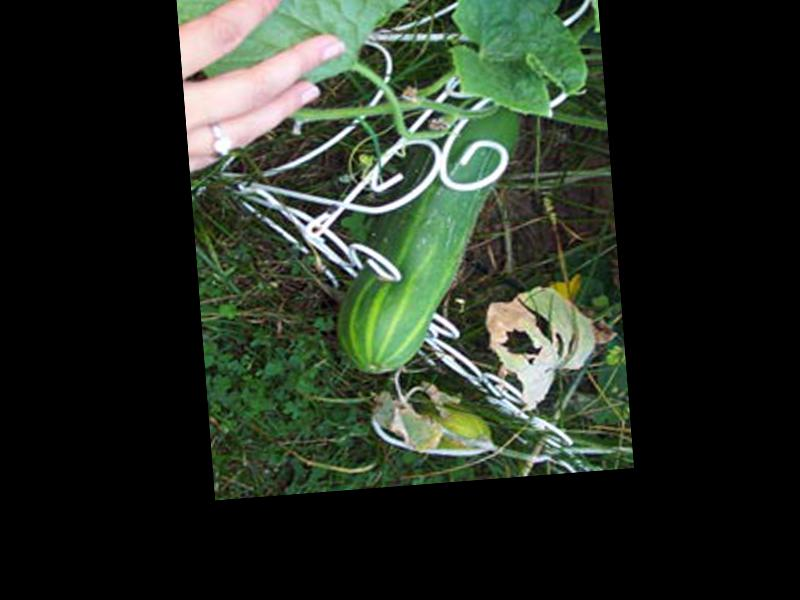Cucumber: (322, 102, 538, 375)
